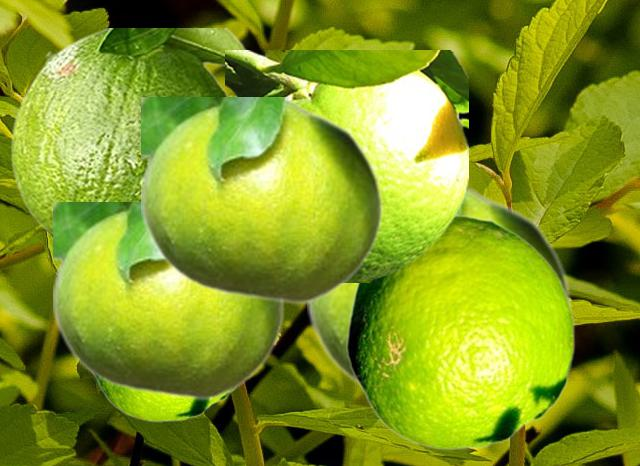dalandan: (225, 50, 467, 281), (307, 184, 571, 391), (346, 214, 574, 449), (141, 97, 383, 304), (10, 28, 248, 238), (53, 202, 284, 400), (94, 377, 230, 421)
